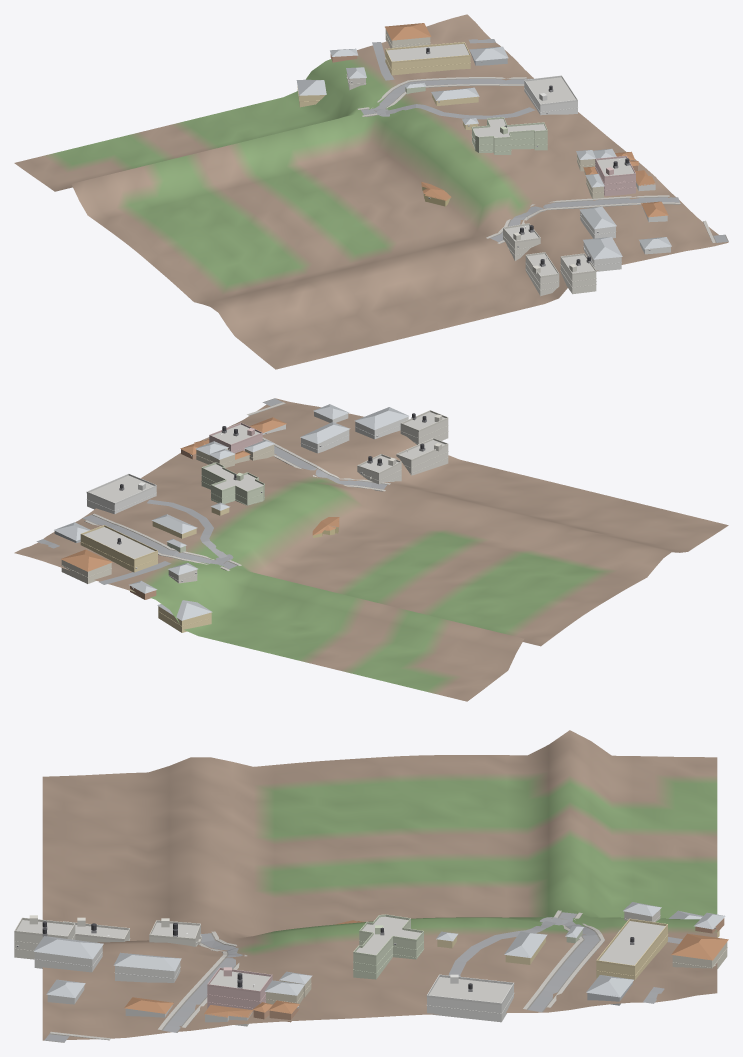
3 renders of one model, top to bottom at view 1: azimuth 30°, elevation 25°; view 2: azimuth 150°, elevation 25°; view 3: azimuth 270°, elevation 25°, orthographic. The views are drawn at different scales.
Parts seen in each view (by area): view 1: Terrain-col, Buildings-col, Details, Roads-col, Sidewalks-col; view 2: Terrain-col, Buildings-col, Details, Roads-col, Sidewalks-col; view 3: Terrain-col, Buildings-col, Details, Roads-col, Sidewalks-col.
Boxes of the visible parts, x1,y1,x2,y2 form: Terrain-col: (14, 14, 728, 369); Buildings-col: (296, 23, 671, 296); Details: (297, 33, 650, 290); Roads-col: (361, 39, 728, 242); Sidewalks-col: (358, 77, 715, 243); Terrain-col: (14, 398, 728, 701); Buildings-col: (54, 404, 448, 632); Details: (62, 410, 448, 626); Roads-col: (36, 398, 387, 584); Sidewalks-col: (84, 402, 390, 570); Terrain-col: (42, 730, 717, 1040); Buildings-col: (14, 902, 728, 1026); Details: (14, 914, 727, 1013); Roads-col: (44, 912, 682, 1042); Sidewalks-col: (49, 910, 604, 1040).
Size of the model in its own units: 262 by 33.37 by 271.
